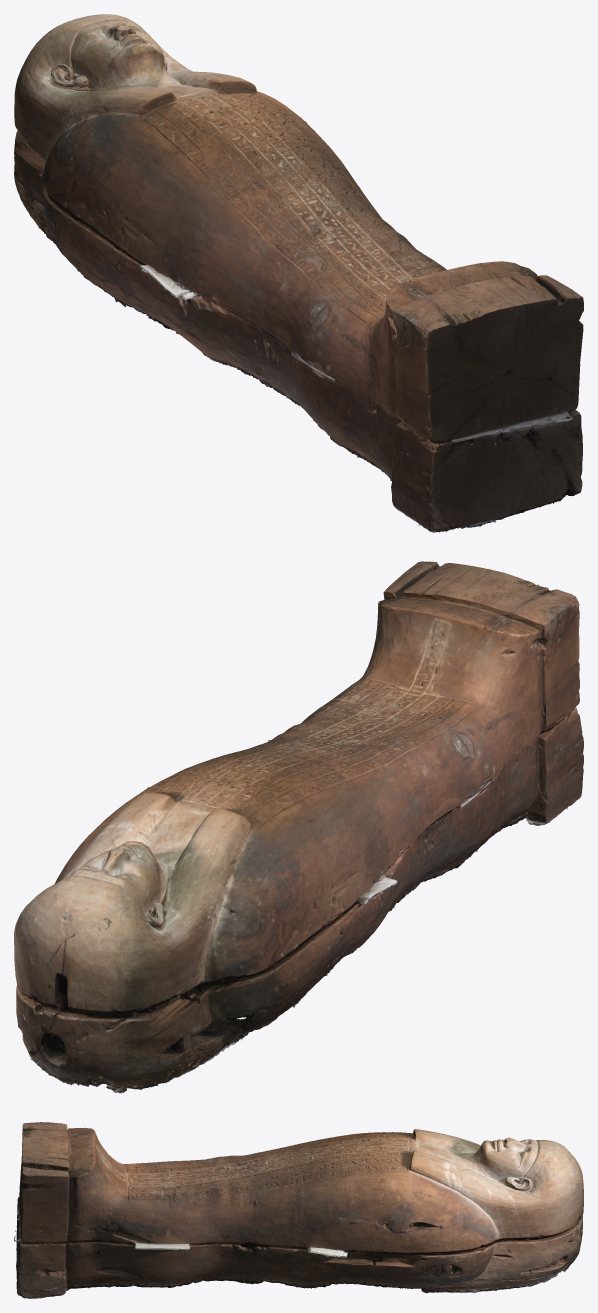
File: irethoreru-FAMSF-30k.obj
The picture shows the model from 3 angles, top to bottom: view 1: azimuth 30°, elevation 25°; view 2: azimuth 150°, elevation 25°; view 3: azimuth 270°, elevation 25°; orthographic projection. The views are drawn at different scales.
Parts seen in each view (by area): view 1: irethoreru-FAMSF-30k.001; view 2: irethoreru-FAMSF-30k.001; view 3: irethoreru-FAMSF-30k.001.
Boxes of the visible parts, <box> form: irethoreru-FAMSF-30k.001: <box>14,14,583,532</box>; irethoreru-FAMSF-30k.001: <box>14,561,583,1093</box>; irethoreru-FAMSF-30k.001: <box>14,1122,583,1298</box>.
Size of the model in its own units: 0.596 by 0.5321 by 1.99.
Materials: 4 (4 with a texture image).
